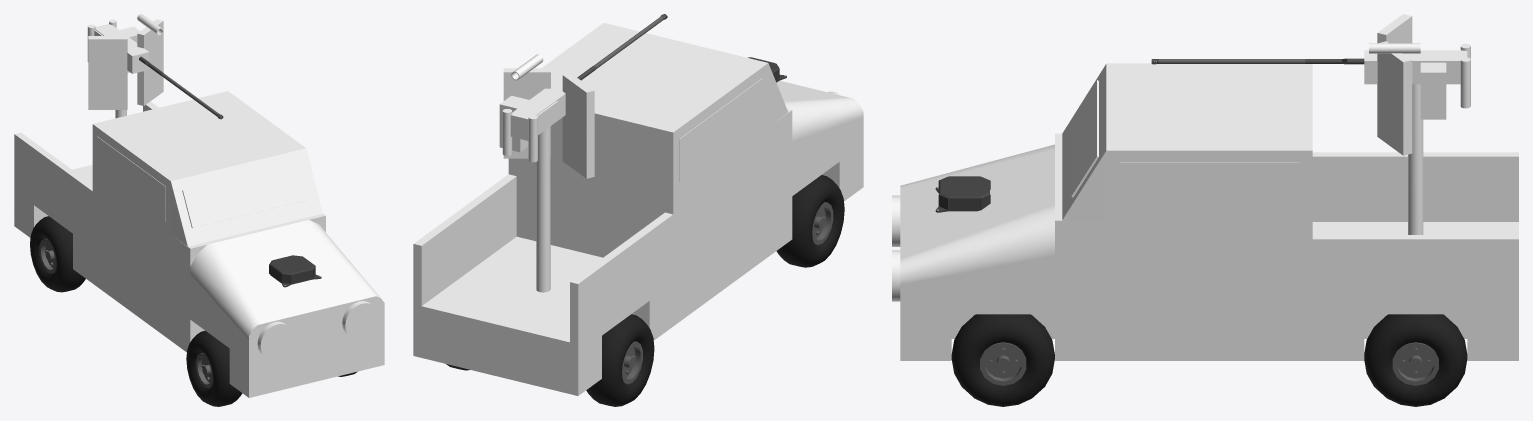
Rendered from Jihad Bastard_export.obj.
3 renders of one model, left to right at view 1: azimuth 30°, elevation 25°; view 2: azimuth 150°, elevation 25°; view 3: azimuth 270°, elevation 25°, orthographic. The views are drawn at different scales.
Parts seen in each view (by area): view 1: Mesh_0, Mesh_6, Mesh_2, Mesh_5, Mesh_7, Mesh_14, Mesh_38, Mesh_15, Mesh_1, TireNormal_21, TireNormal_25, Mesh_12 (+10 smaller); view 2: Mesh_5, Mesh_2, Mesh_6, Mesh_0, Mesh_15, Mesh_4, TireNormal_21, TireNormal_25, Mesh_38, Mesh_8, Mesh_36, Mesh_11 (+11 smaller); view 3: Mesh_2, Mesh_5, Mesh_6, Mesh_0, Mesh_16, TireNormal_29, TireNormal_33, Mesh_35, Mesh_7, Mesh_10, Mesh_11, Mesh_13 (+13 smaller).
Part boxes in pixels (x1,y1,x2,y2): Mesh_0: [190, 220, 384, 362]; Mesh_6: [92, 91, 305, 234]; Mesh_2: [92, 177, 325, 352]; Mesh_5: [14, 101, 158, 247]; Mesh_7: [171, 148, 322, 246]; Mesh_14: [182, 161, 310, 227]; Mesh_38: [88, 36, 127, 109]; Mesh_15: [97, 136, 165, 221]; Mesh_1: [283, 338, 350, 389]; TireNormal_21: [186, 330, 242, 406]; TireNormal_25: [30, 216, 85, 292]; Mesh_12: [229, 349, 282, 397]; Mesh_5: [413, 174, 673, 352]; Mesh_2: [508, 109, 792, 326]; Mesh_6: [516, 23, 768, 196]; Mesh_0: [776, 80, 863, 195]; Mesh_15: [679, 78, 762, 181]; Mesh_4: [454, 323, 536, 385]; TireNormal_21: [776, 175, 844, 267]; TireNormal_25: [586, 314, 654, 406]; Mesh_38: [562, 73, 594, 178]; Mesh_8: [537, 336, 601, 395]; Mesh_36: [536, 126, 550, 292]; Mesh_11: [413, 313, 454, 365]; Mesh_2: [1055, 133, 1312, 360]; Mesh_5: [1312, 152, 1518, 314]; Mesh_6: [1106, 63, 1312, 220]; Mesh_0: [900, 144, 1054, 314]; Mesh_16: [1119, 162, 1299, 209]; TireNormal_29: [1364, 314, 1467, 406]; TireNormal_33: [951, 314, 1054, 406]; Mesh_35: [1377, 41, 1412, 155]; Mesh_7: [1062, 64, 1106, 220]; Mesh_10: [1312, 314, 1364, 360]; Mesh_11: [1467, 314, 1518, 360]; Mesh_13: [900, 314, 951, 360].
Bounding box in the file's own units: 1.13 × 1.79 × 3.04.
Materials: 2 (2 with a texture image).
